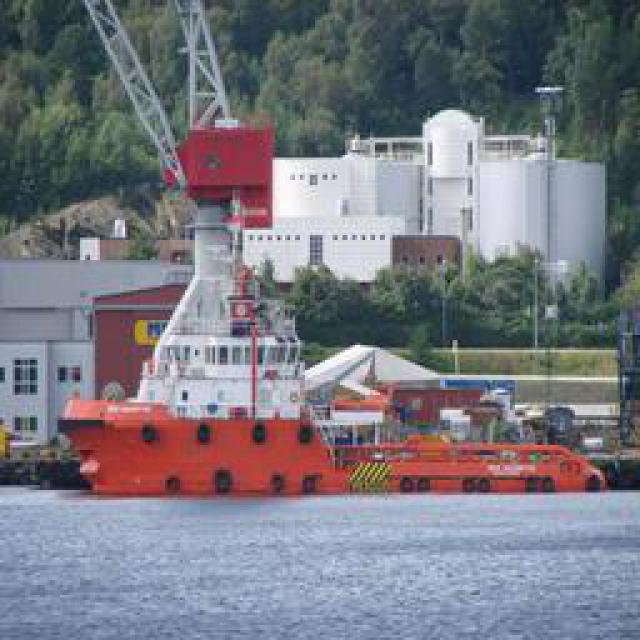Ship: (77, 147, 611, 507)
